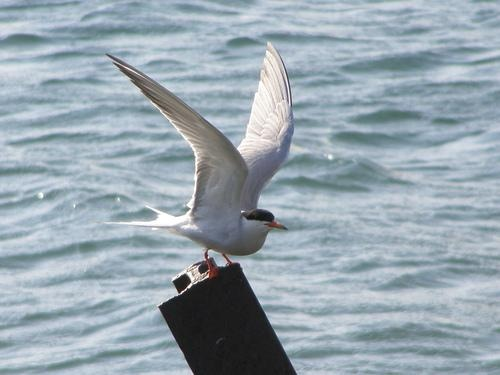bird: (108, 35, 304, 279)
